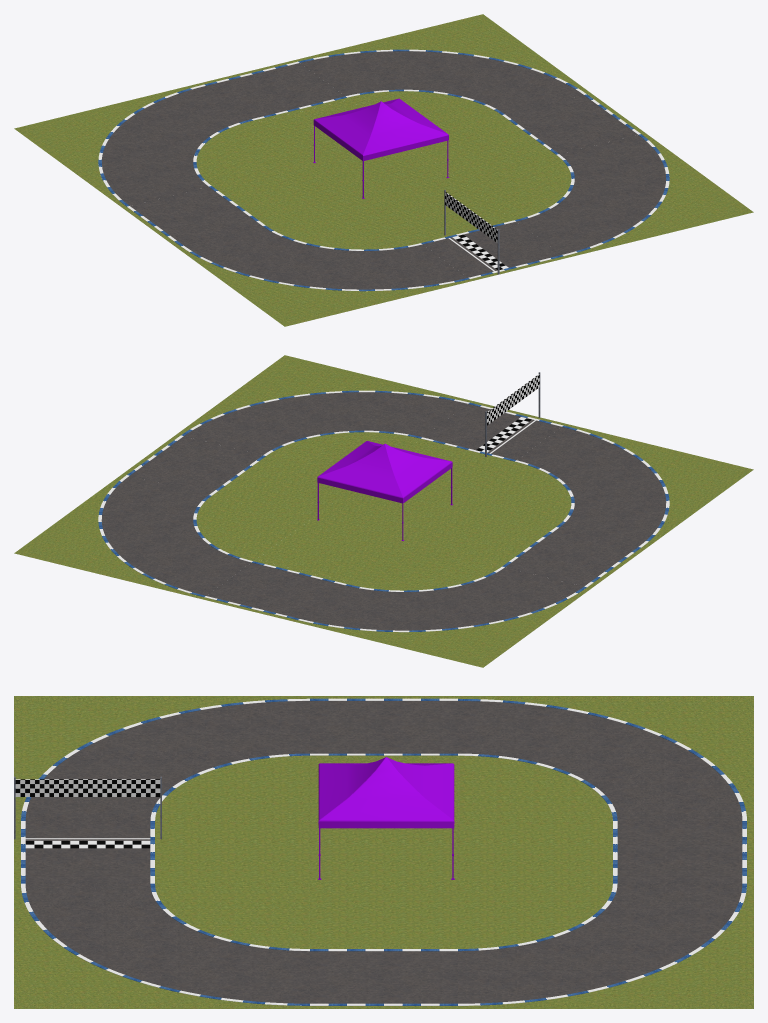
The model's file is track_01.glb.
3 renders of one model, top to bottom at view 1: azimuth 30°, elevation 25°; view 2: azimuth 150°, elevation 25°; view 3: azimuth 270°, elevation 25°, orthographic. The views are drawn at different scales.
Visible parts, largest first — view 1: Forest_mod03_turn90_big.002, Forest_mod03_turn90_big.001, Forest_mod03_turn90_big.004, Forest_mod03_turn90_big.005, Blue Tent A.001, Forest_mod01_straight.022, Forest_mod01_straight.034, Forest_mod00_empty.008, Forest_mod01_straight.023, Forest_mod00_empty.006, Forest_mod00_empty.035, Forest_mod00_empty.007 (+4 smaller); view 2: Forest_mod03_turn90_big.004, Forest_mod03_turn90_big.005, Forest_mod03_turn90_big.001, Forest_mod03_turn90_big.002, Blue Tent A.001, Forest_mod01_straight.022, Forest_mod01_straight.034, Forest_mod00_empty.008, Forest_mod00_empty.009, Forest_mod01_straight.023, Forest_mod00_empty.006, Forest_mod00_empty.007 (+4 smaller); view 3: Forest_mod03_turn90_big.002, Forest_mod03_turn90_big.005, Forest_mod03_turn90_big.001, Forest_mod03_turn90_big.004, Forest_mod00_empty.006, Blue Tent A.001, Forest_mod01_straight.034, Forest_mod00_empty.035, Forest_mod01_straight.022, Forest_mod00_empty.009, Forest_mod01_straight.023, Forest_mod01_straight.035 (+4 smaller).
Boxes of the visible parts, x1=… form: Forest_mod03_turn90_big.002: x1=458, y1=133, x2=753, y2=257; Forest_mod03_turn90_big.001: x1=14, y1=83, x2=309, y2=207; Forest_mod03_turn90_big.004: x1=177, y1=202, x2=471, y2=326; Forest_mod03_turn90_big.005: x1=296, y1=14, x2=590, y2=129; Blue Tent A.001: x1=313, y1=98, x2=449, y2=198; Forest_mod01_straight.022: x1=202, y1=60, x2=349, y2=122; Forest_mod01_straight.034: x1=498, y1=93, x2=644, y2=155; Forest_mod00_empty.008: x1=216, y1=162, x2=363, y2=224; Forest_mod01_straight.023: x1=123, y1=185, x2=269, y2=247; Forest_mod00_empty.006: x1=417, y1=116, x2=551, y2=178; Forest_mod00_empty.035: x1=364, y1=179, x2=511, y2=241; Forest_mod00_empty.007: x1=310, y1=148, x2=457, y2=201; Forest_mod03_turn90_big.004: x1=458, y1=424, x2=753, y2=548; Forest_mod03_turn90_big.005: x1=14, y1=474, x2=309, y2=598; Forest_mod03_turn90_big.001: x1=296, y1=543, x2=590, y2=667; Forest_mod03_turn90_big.002: x1=177, y1=355, x2=471, y2=470; Blue Tent A.001: x1=317, y1=441, x2=452, y2=540; Forest_mod01_straight.022: x1=202, y1=559, x2=349, y2=621; Forest_mod01_straight.034: x1=123, y1=434, x2=269, y2=496; Forest_mod00_empty.008: x1=404, y1=503, x2=551, y2=565; Forest_mod00_empty.009: x1=256, y1=520, x2=403, y2=582; Forest_mod01_straight.023: x1=498, y1=526, x2=644, y2=588; Forest_mod00_empty.006: x1=216, y1=457, x2=349, y2=519; Forest_mod00_empty.007: x1=310, y1=490, x2=457, y2=542; Forest_mod03_turn90_big.002: x1=14, y1=883, x2=309, y2=1008; Forest_mod03_turn90_big.005: x1=458, y1=883, x2=753, y2=1008; Forest_mod03_turn90_big.001: x1=458, y1=696, x2=753, y2=821; Forest_mod03_turn90_big.004: x1=14, y1=696, x2=309, y2=821; Forest_mod00_empty.006: x1=310, y1=883, x2=457, y2=946; Blue Tent A.001: x1=318, y1=757, x2=454, y2=879; Forest_mod01_straight.034: x1=310, y1=946, x2=457, y2=1008; Forest_mod00_empty.035: x1=162, y1=821, x2=309, y2=883; Forest_mod01_straight.022: x1=606, y1=821, x2=753, y2=883; Forest_mod00_empty.009: x1=458, y1=821, x2=605, y2=883; Forest_mod01_straight.023: x1=310, y1=696, x2=457, y2=758; Forest_mod01_straight.035: x1=14, y1=821, x2=161, y2=883.
Size of the model in its own units: 80 by 11.21 by 80.
6 materials, 5 textured.
